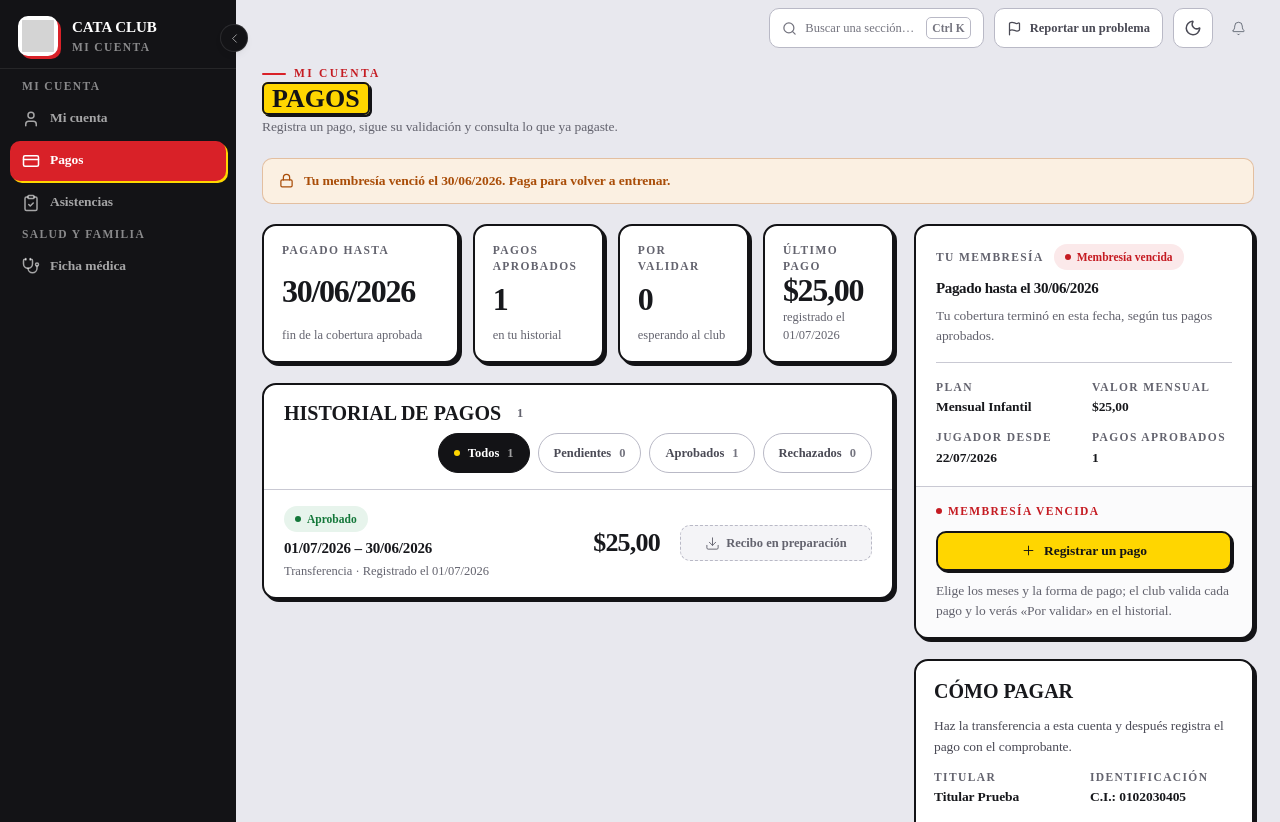
it: StudentPaymentsPage — non-payment block (#1768) › shows the banner and keeps the whole payment module for a blocked account holder
The image size is (1280, 822).
Check: the text "Tu membresía venció el 30/06/2026. Paga para volver a entrenar." is shown, box x1=304 y1=171 x2=670 y2=191
Click the button "Registrar un pago".
click(1084, 551)  # box x1=936 y1=531 x2=1232 y2=571
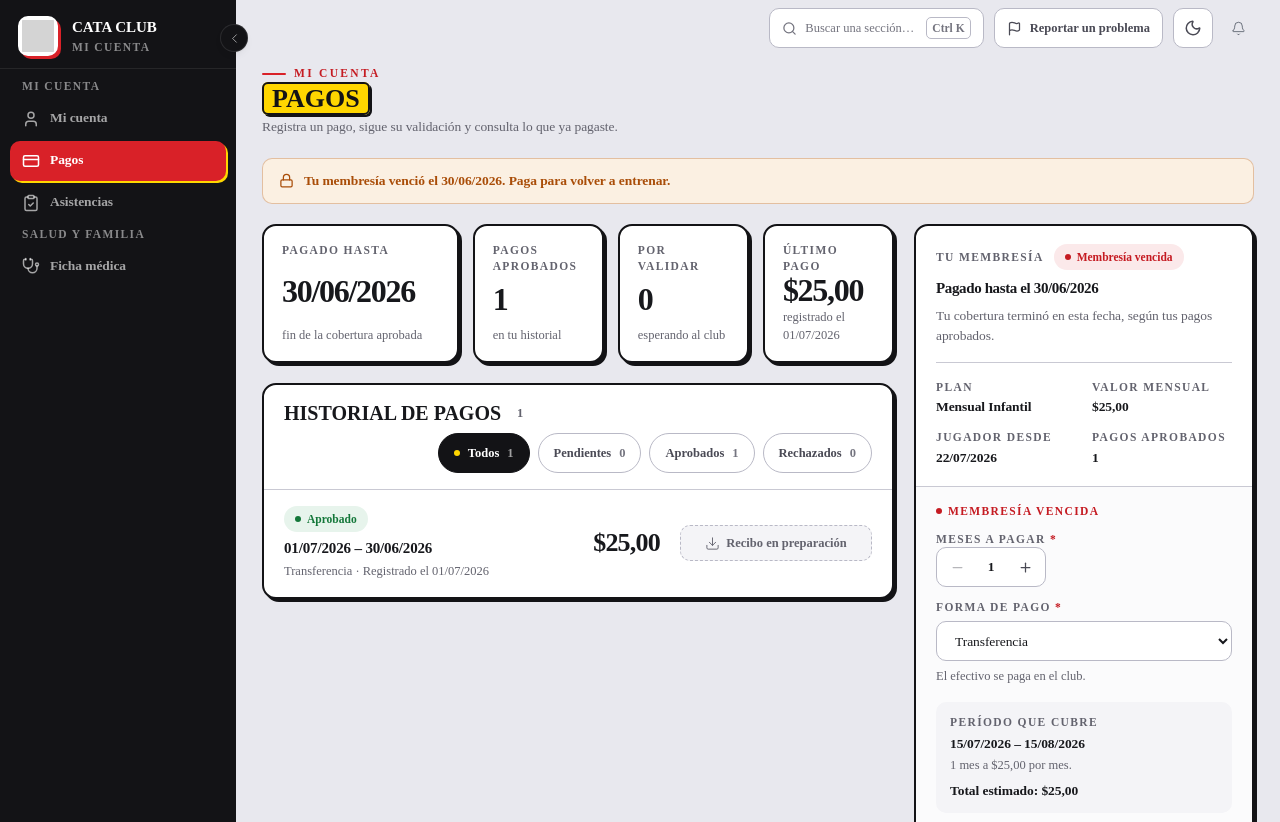
Check: the list with test id "student-payments-table" is shown, box x1=264 y1=489 x2=892 y2=597
Check: the element "Meses a pagar * 1" is shown, box x1=936 y1=533 x2=1057 y2=587
Check: the dropdown labelled "Forma de pago * El efectivo se paga en el club." is shown, box x1=936 y1=621 x2=1232 y2=661
